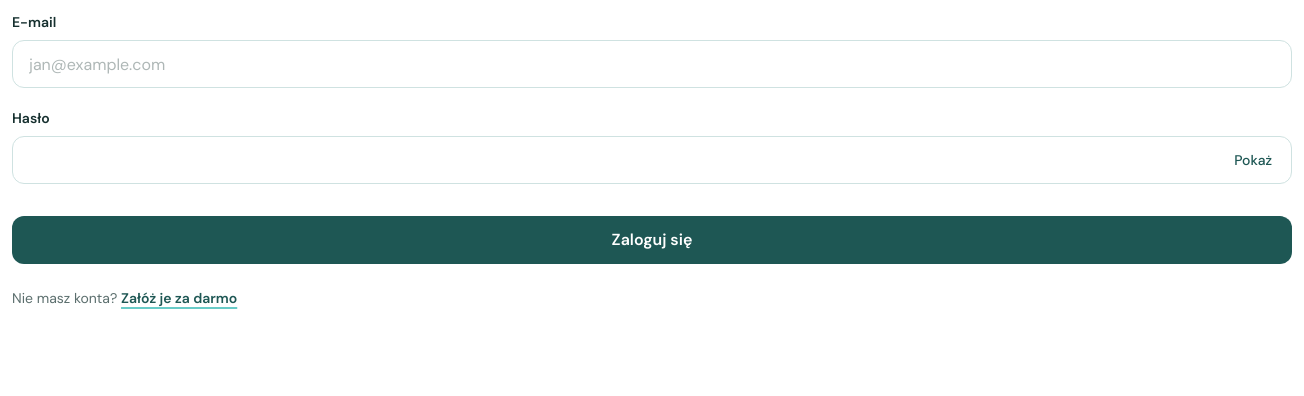
it: LoginForm › po błędzie pokazuje komunikat i zostawia wpisany e-mail
The image size is (1304, 396).
Type "k@example.com" into the field labelled "E-mail" at (652, 64), box [12,40,1292,88]
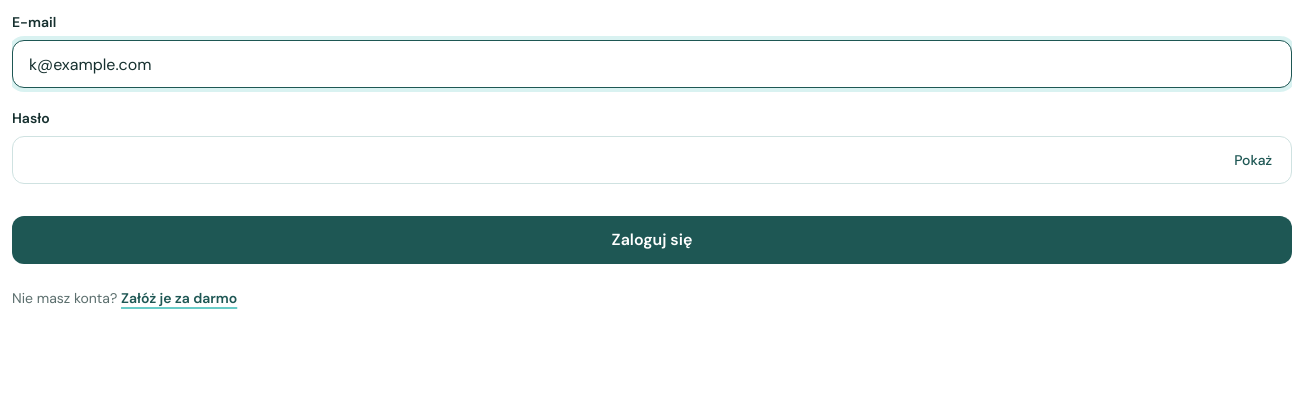
Click the button "Zaloguj się" at (652, 240), box [12,216,1292,264]
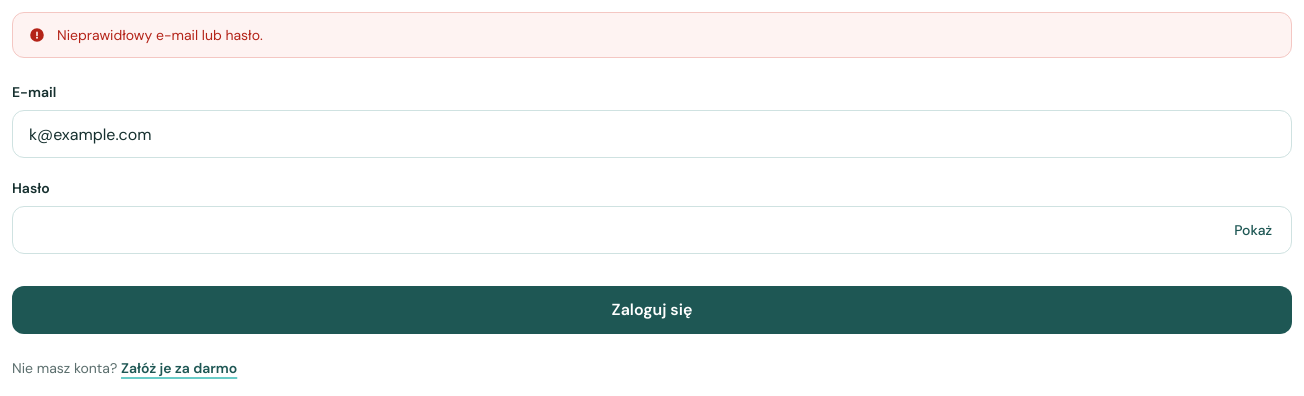
Result: the message reads "Nieprawidłowy e-mail lub hasło." at [57,26,263,44]
